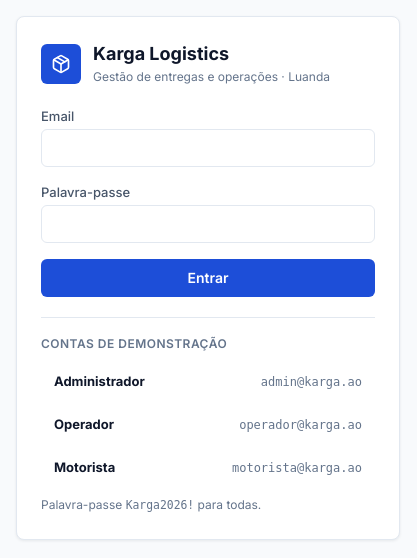
Scenario: Login › fills the form from a demo account button
The width and height of the screenshot is (417, 558).
Click the button "Operador operador@karga.ao" at (84, 424), box [41,405,375,444]
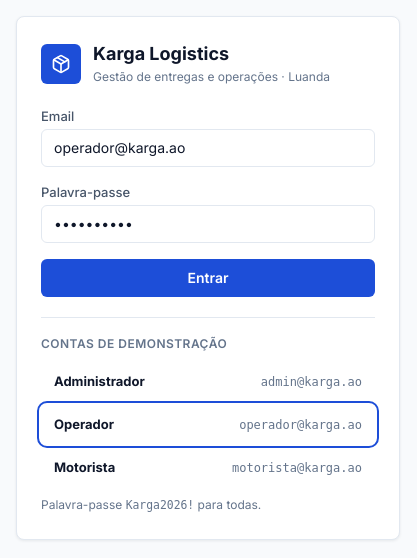
Result: the field labelled "Email" holds "operador@karga.ao" at [41,129,375,167]
Result: the password field labelled "Palavra-passe" holds "Karga2026!" at [41,205,375,243]
